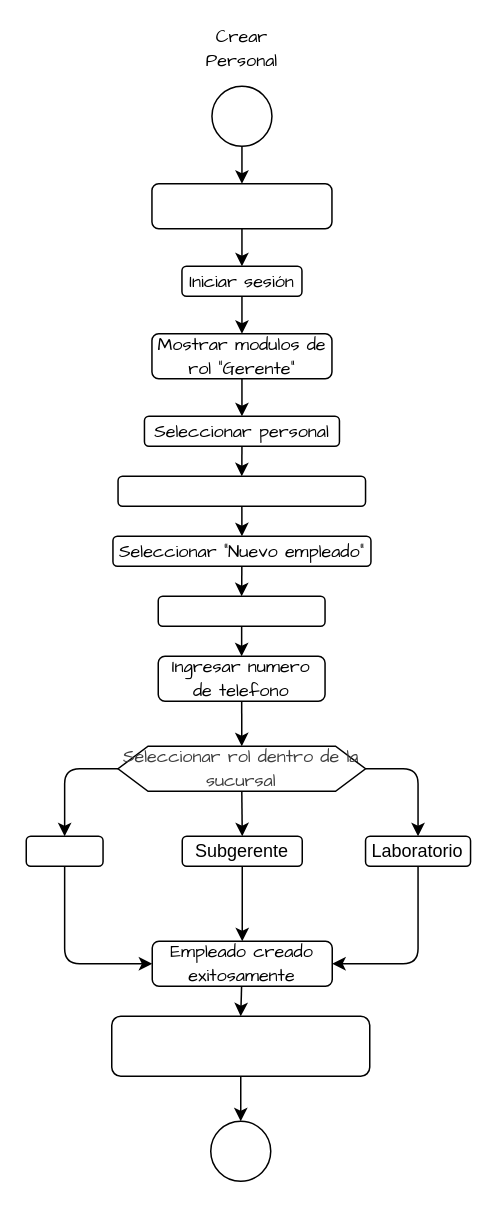
Image size: 498x1208. Some labels were removed from this diagram. The centre of each missing label's shape, as x and y in pixels:
Entrar a la aplicación: the point at 241,205
Ingresar nombre: the point at 241,610
Mostrar usuario y contraseña del nuevo empleado: the point at 240,1045
Mostrar vista de personal: the point at 241,490
Ventas: the point at 64,850
